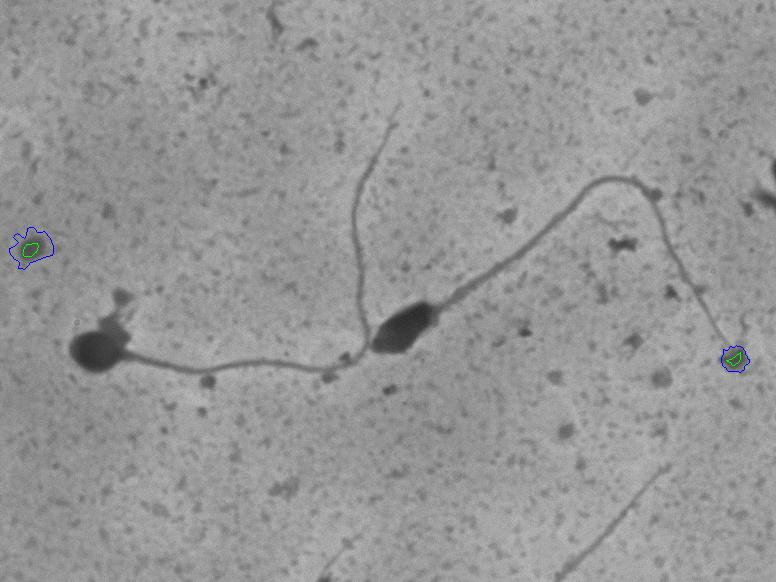Abnormal: (364, 153, 744, 369)
Normal: (59, 94, 415, 386)
